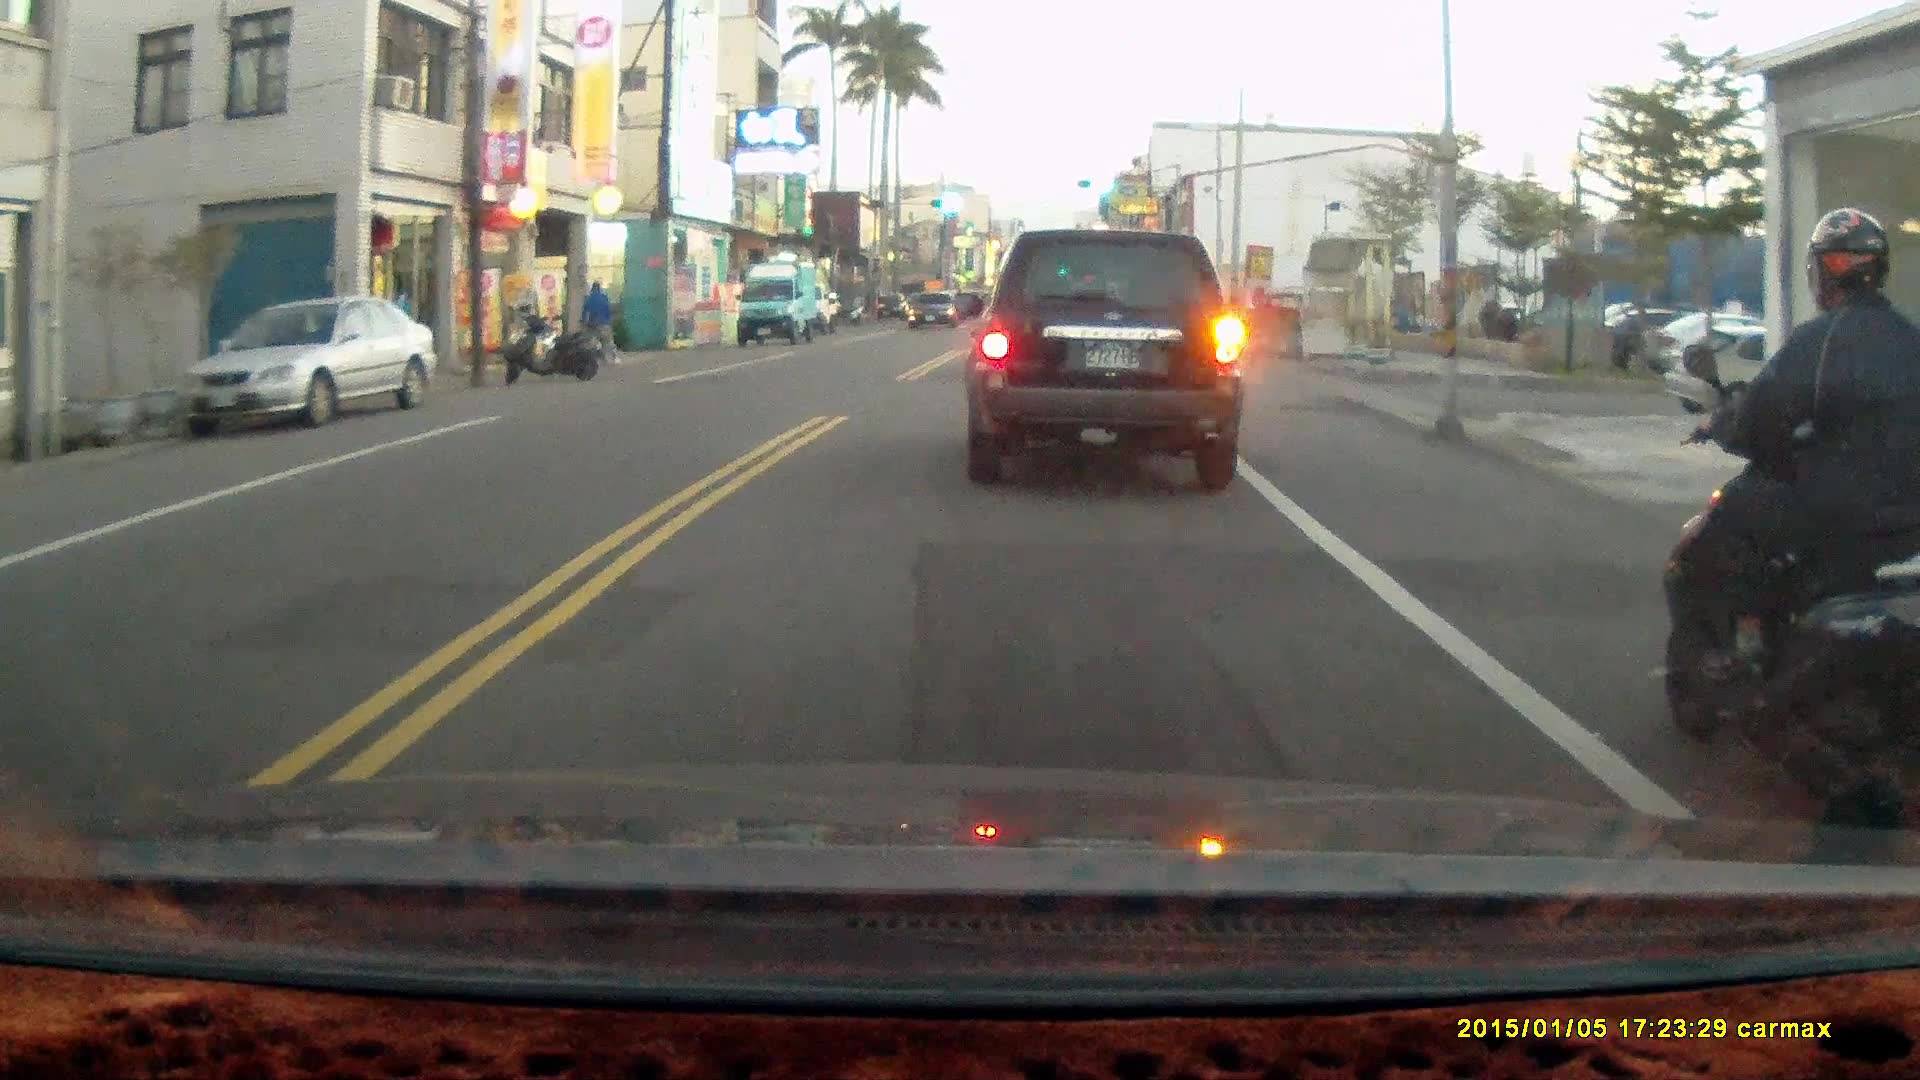pedestrian: (577, 278, 620, 367)
rider: (1656, 209, 1920, 871)
vehicle: (970, 228, 1249, 501), (182, 296, 436, 431), (1672, 328, 1894, 421), (737, 258, 820, 346), (906, 293, 961, 331)
